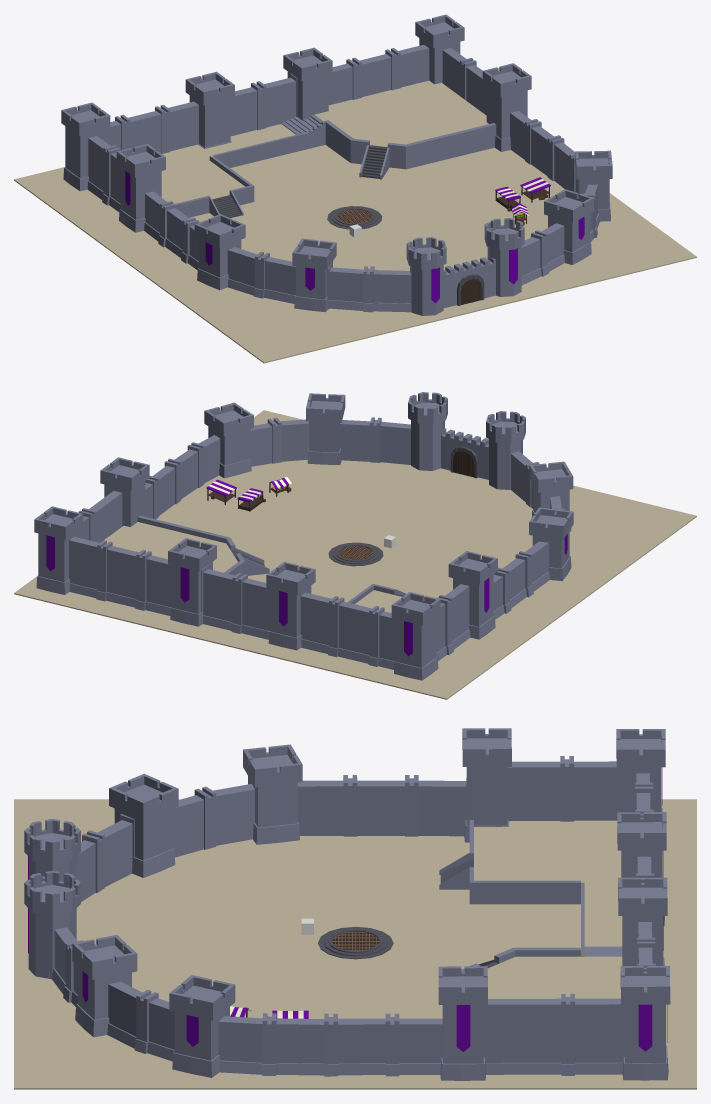
Rendered from Hub jogo provisória.fbx.
The picture shows the model from 3 angles, top to bottom: view 1: azimuth 30°, elevation 25°; view 2: azimuth 150°, elevation 25°; view 3: azimuth 270°, elevation 25°; orthographic projection. The views are drawn at different scales.
Visible parts, largest first — view 1: Chão, Andar, Andar3, Andar2, TorreQuadrada.009, TorreQuadrada.004, TorreQuadrada.008, TorreRedonda, TorreQuadrada.007, TorreQuadrada.001, TorreQuadrada, TorreQuadrada.002 (+32 smaller); view 2: Chão, TorreQuadrada.008, Andar, TorreQuadrada.005, TorreQuadrada.007, TorreQuadrada.006, TorreQuadrada.009, TorreQuadrada.003, TorreRedonda.001, TorreQuadrada.002, MuralhaReta8m.022, MuralhaReta8m.017 (+29 smaller); view 3: Chão, Andar3, Andar, MuralhaReta8m.014, TorreQuadrada.005, TorreQuadrada.004, TorreQuadrada.003, MuralhaReta8m.015, TorreQuadrada, TorreQuadrada.001, TorreQuadrada.009, TorreQuadrada.002 (+25 smaller).
Boxes of the visible parts, x1,y1,x2,y2 form: Chão: [14, 145, 696, 363]; Andar: [310, 80, 496, 169]; Andar3: [161, 146, 254, 217]; Andar2: [193, 116, 329, 167]; TorreQuadrada.009: [116, 144, 165, 232]; TorreQuadrada.004: [482, 63, 531, 151]; TorreQuadrada.008: [61, 102, 110, 191]; TorreRedonda: [406, 237, 446, 315]; TorreQuadrada.007: [185, 71, 234, 148]; TorreQuadrada.001: [194, 214, 245, 290]; TorreQuadrada: [292, 238, 336, 312]; TorreQuadrada.002: [544, 189, 593, 264]; Chão: [14, 410, 696, 699]; TorreQuadrada.008: [391, 592, 440, 680]; Andar: [104, 515, 245, 575]; TorreQuadrada.005: [34, 506, 83, 594]; TorreQuadrada.007: [266, 561, 315, 650]; TorreQuadrada.006: [168, 538, 216, 626]; TorreQuadrada.009: [448, 551, 497, 639]; TorreQuadrada.003: [204, 402, 253, 478]; TorreRedonda.001: [408, 392, 447, 470]; TorreQuadrada.002: [306, 393, 345, 464]; MuralhaReta8m.022: [328, 596, 371, 663]; MuralhaReta8m.017: [96, 540, 138, 607]; Chão: [14, 799, 696, 1089]; Andar3: [469, 820, 621, 904]; Andar: [461, 947, 622, 998]; MuralhaReta8m.014: [483, 998, 561, 1074]; TorreQuadrada.005: [620, 966, 670, 1080]; TorreQuadrada.004: [438, 966, 487, 1080]; TorreQuadrada.003: [169, 975, 235, 1077]; MuralhaReta8m.015: [561, 993, 624, 1075]; TorreQuadrada: [109, 773, 178, 877]; TorreQuadrada.001: [243, 744, 302, 844]; TorreQuadrada.009: [462, 728, 511, 842]; TorreQuadrada.002: [72, 935, 137, 1037].
Size of the model in its own units: 100 by 15.49 by 100.
